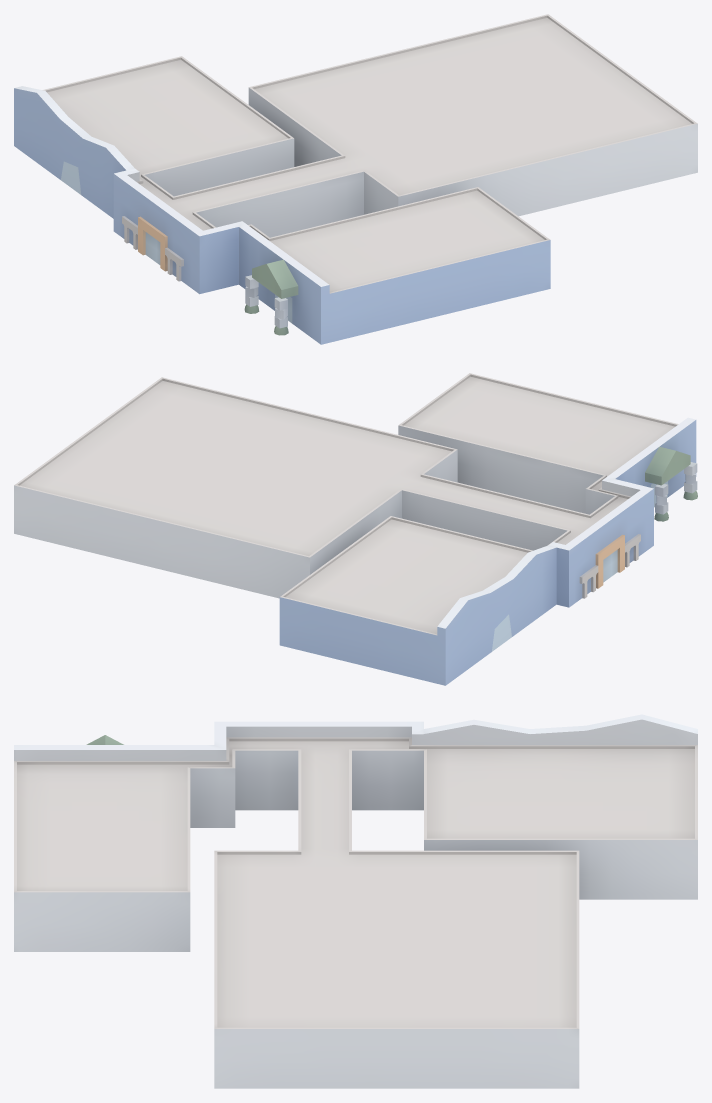
The picture shows the model from 3 angles, top to bottom: view 1: azimuth 30°, elevation 25°; view 2: azimuth 150°, elevation 25°; view 3: azimuth 270°, elevation 25°; orthographic projection. The views are drawn at different scales.
Visible parts, largest first — view 1: 70030076680675275.001; view 2: 70030076680675275.001; view 3: 70030076680675275.001.
Part boxes in pixels (left/top/right/bottom): 70030076680675275.001: left=14, top=14, right=697, bottom=344; 70030076680675275.001: left=14, top=373, right=697, bottom=685; 70030076680675275.001: left=14, top=714, right=697, bottom=1088.
Size of the model in its own units: 118 by 15.71 by 114.
1 material, 1 textured.
